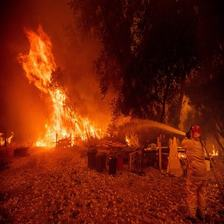fire: (18, 28, 106, 152)
